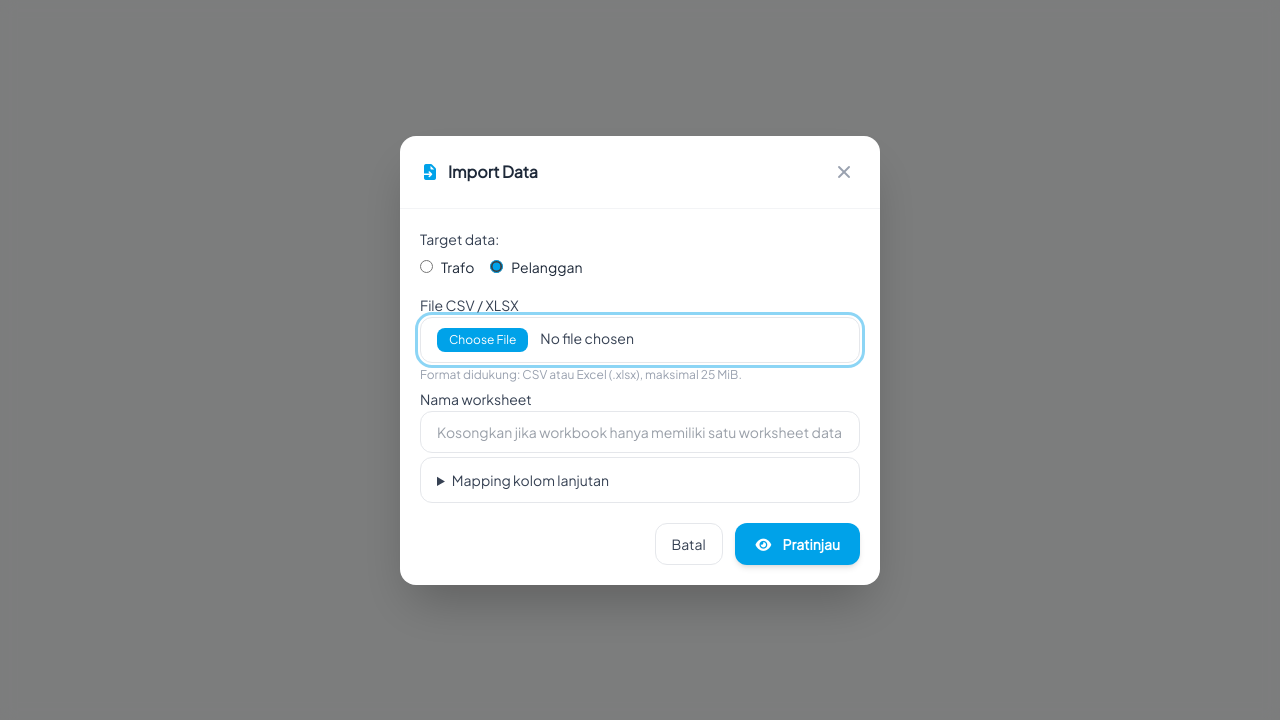
Scenario: Kontrak import preview dan commit › menampilkan ringkasan canonical, baris ditolak, dan hanya commit setelah konfirmasi eksplisit
The width and height of the screenshot is (1280, 720).
Earlier steps of the test are not shown.
Later steps or results of the test are not shown.
Click the button "Pratinjau" at [797, 544], box [735,522,860,564]
(page scrolled)
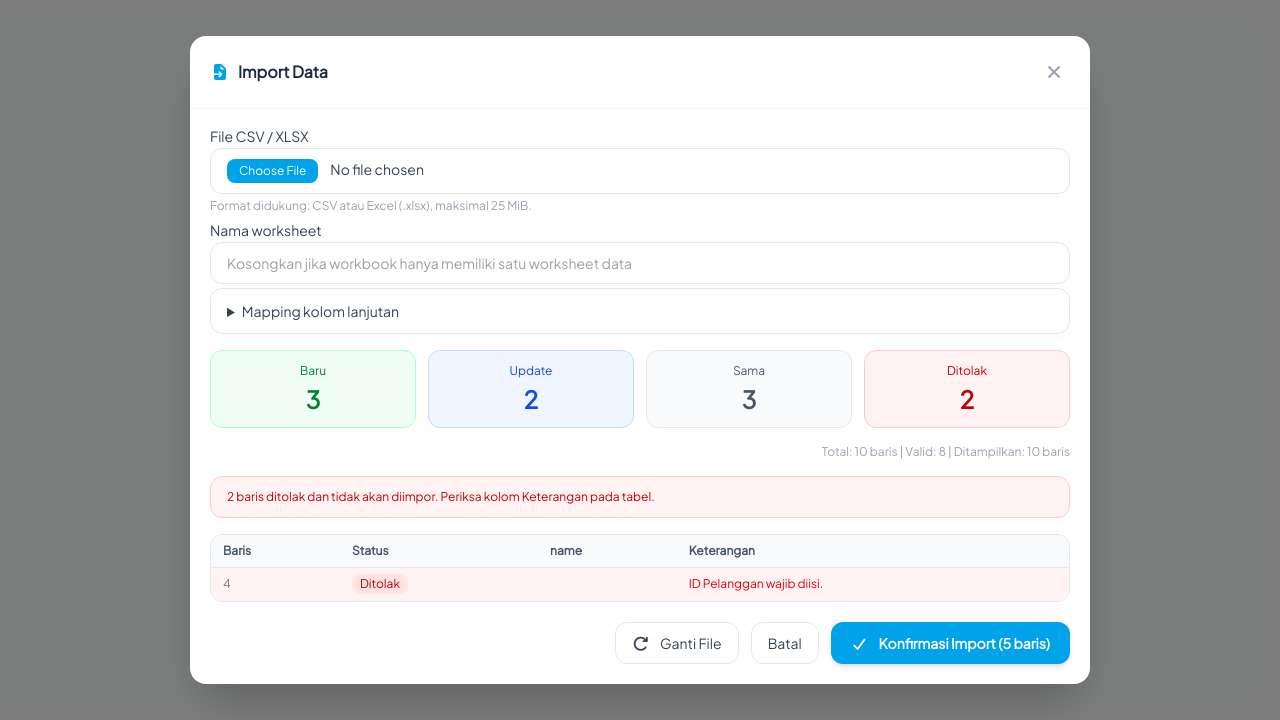
Expected: the button "Konfirmasi Import (5 baris)" is enabled, [831,622,1070,664]
Now the text "2 baris ditolak dan tidak akan diimpor. Periksa kolom Keterangan pada tabel." is shown, box [210,476,1070,518]
Now the text "ID Pelanggan wajib diisi." is shown, box [677,568,1069,600]
